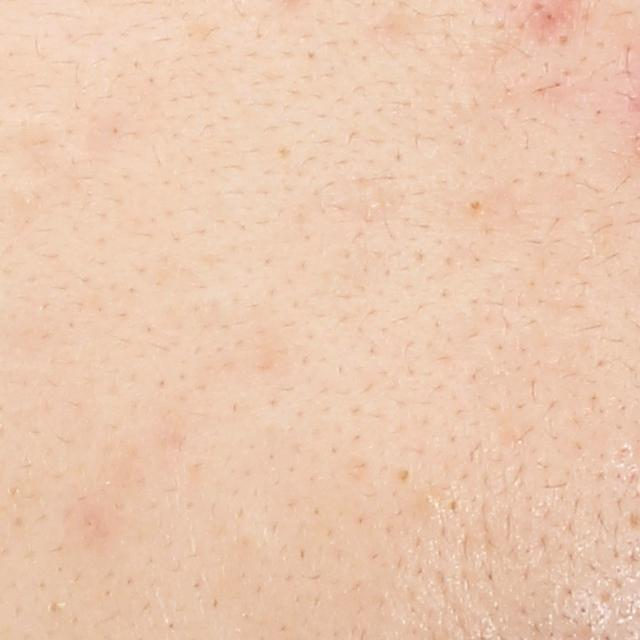comedo: (459, 192, 486, 218), (392, 466, 414, 483)
